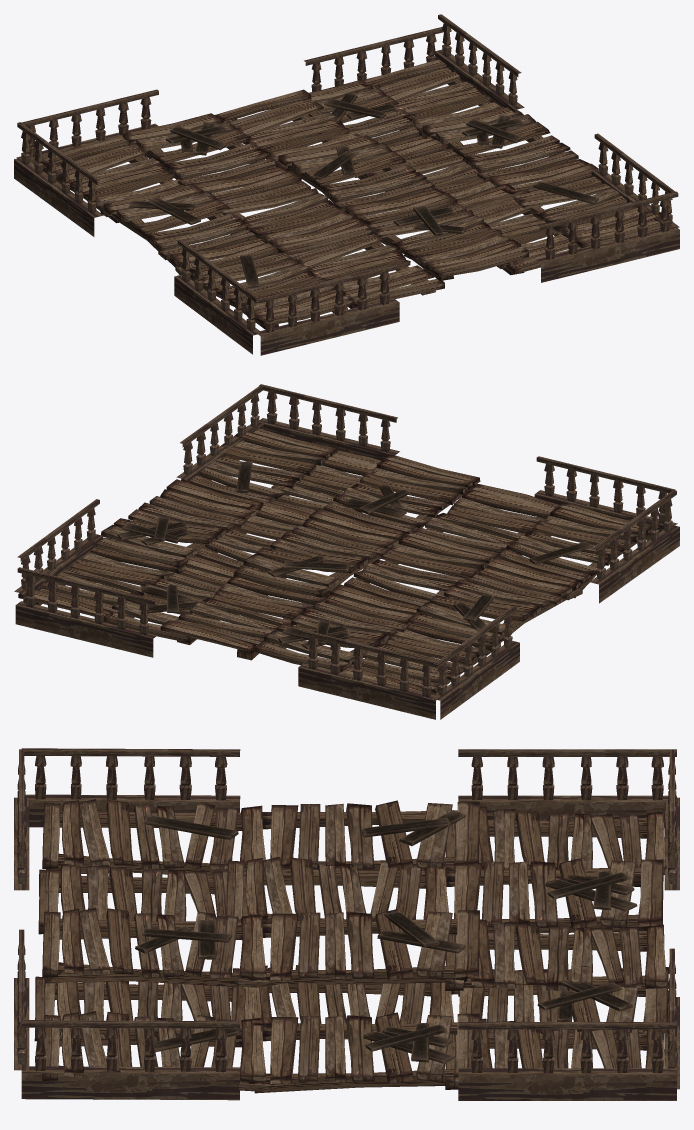
The model's file is Elevator.gltf.
3 views of the same model, one above another, from view 1: azimuth 30°, elevation 25°; view 2: azimuth 150°, elevation 25°; view 3: azimuth 270°, elevation 25° (orthographic). The views are drawn at different scales.
Parts seen in each view (by area): view 1: P_PROP_woodbridge_dungeon_10 (2), P_PROP_woodbridge_dungeon_10 (1), P_PROP_woodbridge_dungeon_10, P_PROP_woodbridge_dungeon_10 (3), P_PROP_woodbridge_dungeon_10 (4), P_MOD_Railing_02_straight (2), P_MOD_Railing_02_straight, P_PROP_woodbridge_dungeon_09 (2), P_PROP_woodbridge_dungeon_09 (1), P_PROP_woodbridge_dungeon_09, P_PROP_woodbridge_dungeon_09 (3), P_MOD_Railing_02_straight (8) (+13 smaller); view 2: P_PROP_woodbridge_dungeon_10 (2), P_PROP_woodbridge_dungeon_10, P_PROP_woodbridge_dungeon_10 (1), P_PROP_woodbridge_dungeon_10 (3), P_PROP_woodbridge_dungeon_10 (4), P_PROP_woodbridge_dungeon_09 (2), P_MOD_Railing_02_straight (5), P_MOD_Railing_02_straight (3), P_PROP_woodbridge_dungeon_09 (1), P_PROP_woodbridge_dungeon_09 (3), P_PROP_woodbridge_dungeon_09, P_MOD_Railing_02_straight (6) (+13 smaller); view 3: P_PROP_woodbridge_dungeon_10 (2), P_PROP_woodbridge_dungeon_10, P_PROP_woodbridge_dungeon_10 (1), P_PROP_woodbridge_dungeon_10 (3), P_PROP_woodbridge_dungeon_10 (4), P_MOD_Railing_02_straight (10), P_MOD_Railing_02_straight (9), P_PROP_woodbridge_dungeon_09 (2), P_PROP_woodbridge_dungeon_09, P_PROP_woodbridge_dungeon_09 (1), P_MOD_Railing_02_straight (8), P_PROP_woodbridge_dungeon_09 (4) (+14 smaller).
Part boxes in pixels (left/top/right/bottom): P_PROP_woodbridge_dungeon_10 (2): left=278, top=135, right=528, bottom=280; P_PROP_woodbridge_dungeon_10 (1): left=123, top=113, right=373, bottom=255; P_PROP_woodbridge_dungeon_10: left=103, top=184, right=353, bottom=329; P_PROP_woodbridge_dungeon_10 (3): left=422, top=107, right=672, bottom=247; P_PROP_woodbridge_dungeon_10 (4): left=280, top=79, right=514, bottom=211; P_MOD_Railing_02_straight (2): left=255, top=264, right=399, bottom=355; P_MOD_Railing_02_straight: left=535, top=191, right=679, bottom=282; P_PROP_woodbridge_dungeon_09 (2): left=215, top=89, right=361, bottom=173; P_PROP_woodbridge_dungeon_09 (1): left=289, top=225, right=444, bottom=308; P_PROP_woodbridge_dungeon_09: left=42, top=136, right=183, bottom=223; P_PROP_woodbridge_dungeon_09 (3): left=360, top=59, right=523, bottom=141; P_MOD_Railing_02_straight (8): left=14, top=122, right=103, bottom=236; P_PROP_woodbridge_dungeon_10 (2): left=233, top=454, right=480, bottom=597; P_PROP_woodbridge_dungeon_10: left=407, top=502, right=652, bottom=643; P_PROP_woodbridge_dungeon_10 (1): left=254, top=530, right=500, bottom=671; P_PROP_woodbridge_dungeon_10 (3): left=95, top=425, right=337, bottom=567; P_PROP_woodbridge_dungeon_10 (4): left=103, top=502, right=304, bottom=644; P_PROP_woodbridge_dungeon_09 (2): left=160, top=576, right=329, bottom=660; P_MOD_Railing_02_straight (5): left=298, top=629, right=439, bottom=719; P_MOD_Railing_02_straight (3): left=15, top=567, right=157, bottom=657; P_PROP_woodbridge_dungeon_09 (1): left=416, top=483, right=559, bottom=553; P_PROP_woodbridge_dungeon_09 (3): left=18, top=538, right=185, bottom=616; P_PROP_woodbridge_dungeon_09: left=339, top=617, right=503, bottom=694; P_MOD_Railing_02_straight (6): left=589, top=490, right=679, bottom=603; P_PROP_woodbridge_dungeon_10 (2): left=42, top=907, right=479, bottom=988; P_PROP_woodbridge_dungeon_10: left=42, top=799, right=479, bottom=875; P_PROP_woodbridge_dungeon_10 (1): left=226, top=856, right=663, bottom=933; P_PROP_woodbridge_dungeon_10 (3): left=42, top=1011, right=479, bottom=1093; P_PROP_woodbridge_dungeon_10 (4): left=231, top=965, right=668, bottom=1042; P_MOD_Railing_02_straight (10): left=458, top=1022, right=676, bottom=1100; P_MOD_Railing_02_straight (9): left=21, top=1020, right=240, bottom=1100; P_PROP_woodbridge_dungeon_09 (2): left=445, top=919, right=666, bottom=996; P_PROP_woodbridge_dungeon_09: left=445, top=806, right=666, bottom=874; P_PROP_woodbridge_dungeon_09 (1): left=38, top=864, right=247, bottom=939; P_MOD_Railing_02_straight (8): left=458, top=749, right=676, bottom=827; P_PROP_woodbridge_dungeon_09 (4): left=34, top=976, right=254, bottom=1047.
Size of the model in its own units: 12.44 by 1.84 by 12.19.
Materials: 3 (3 with a texture image).
